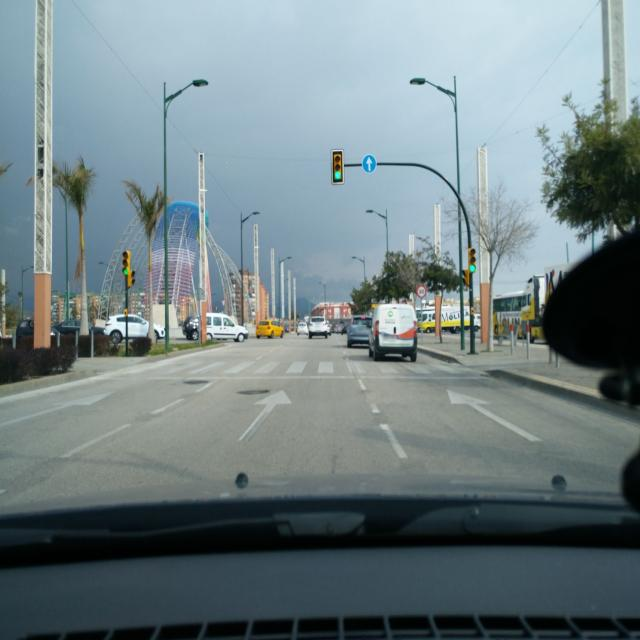car: (368, 301, 418, 362), (185, 312, 249, 342), (104, 314, 165, 342), (347, 314, 373, 348), (255, 318, 285, 339), (308, 315, 328, 339), (296, 320, 308, 336)
